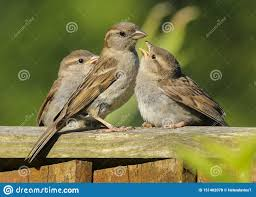hsparrow: (22, 16, 151, 166), (137, 38, 235, 130), (38, 48, 101, 125)
